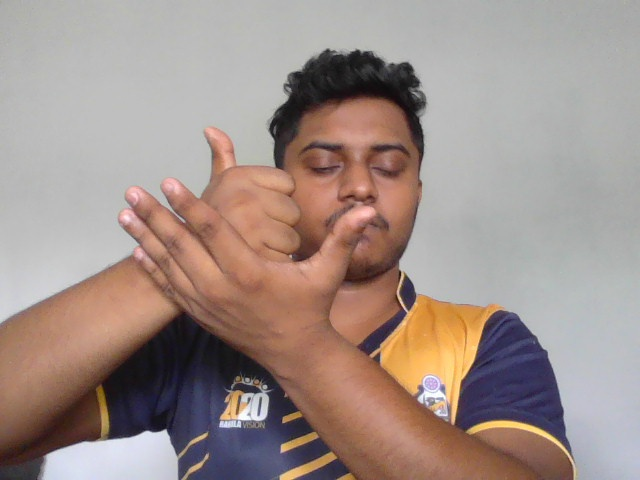Help: (117, 122, 376, 369)
